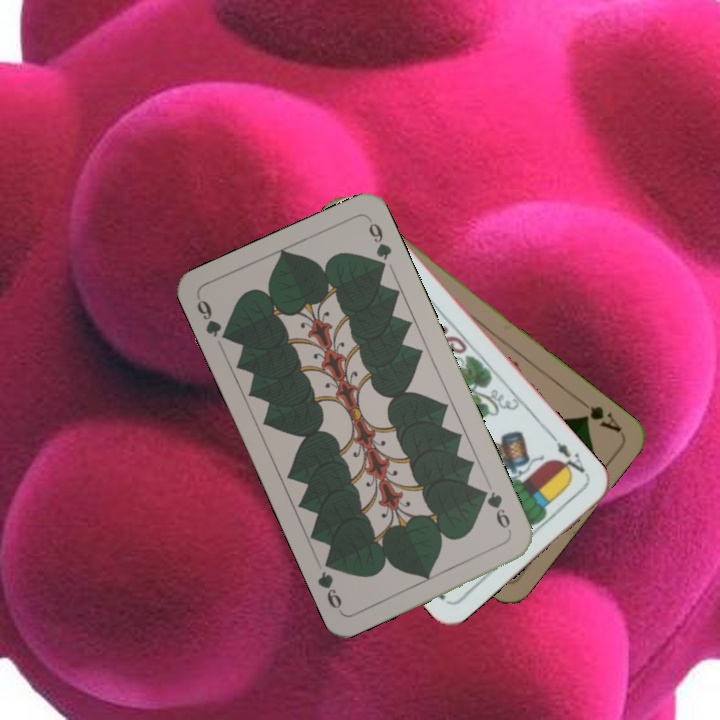EA: (547, 430, 591, 479)
G9: (192, 293, 234, 345), (476, 485, 515, 537)
GA: (575, 393, 625, 436)
